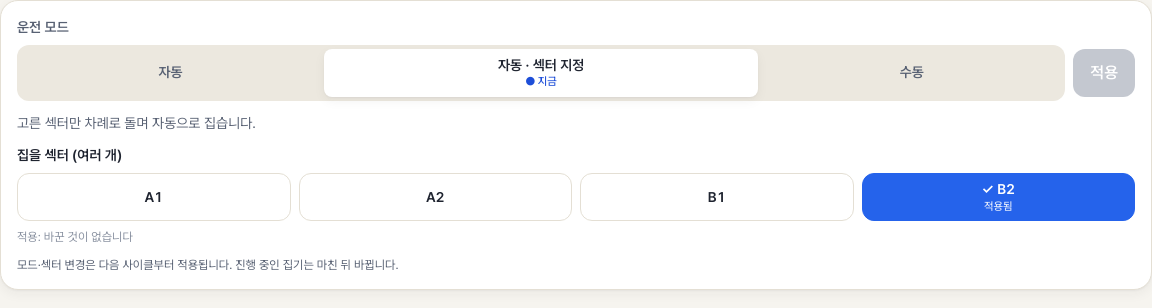
Test: RobotModeControl: 세 칸 하나와 확인 단계 › 지정 모드에서는 적용된 섹터를 칩에 표시하고, 같은 섹터면 적용할 것이 없다
Expected: the button "적용" is disabled, [1073, 49, 1135, 97]
Click the button named "섹터 A2" at [435, 197], box [298, 173, 572, 221]
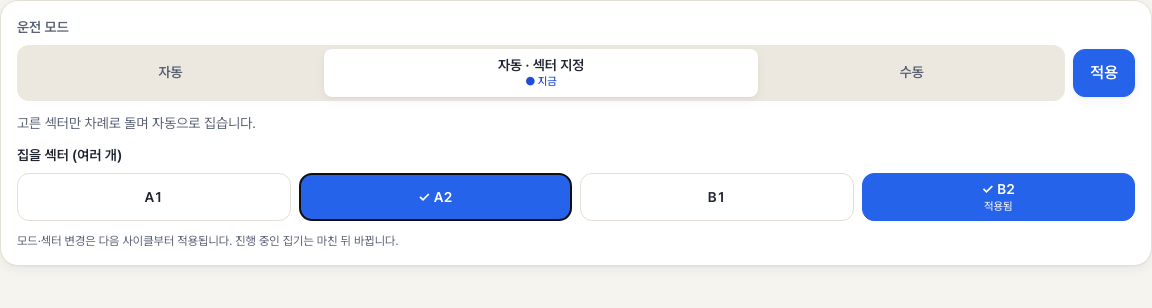
Now the button "적용" is enabled, box [1073, 49, 1135, 97]
